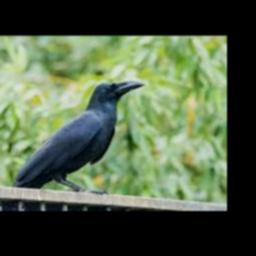Crow: (1, 80, 145, 210)
